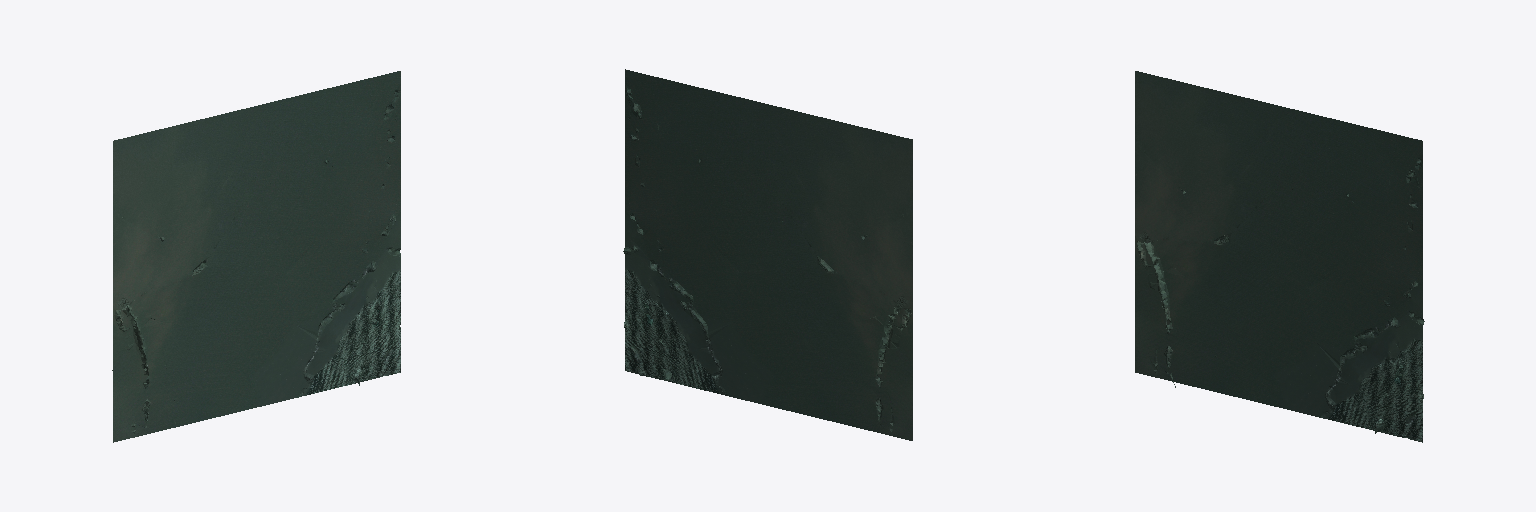
3 views of the same model, side by side, from view 1: azimuth 30°, elevation 25°; view 2: azimuth 150°, elevation 25°; view 3: azimuth 330°, elevation 25° (orthographic).
Bounding box in the file's own units: 252 × 252 × 42.8.
2 materials, 1 textured.